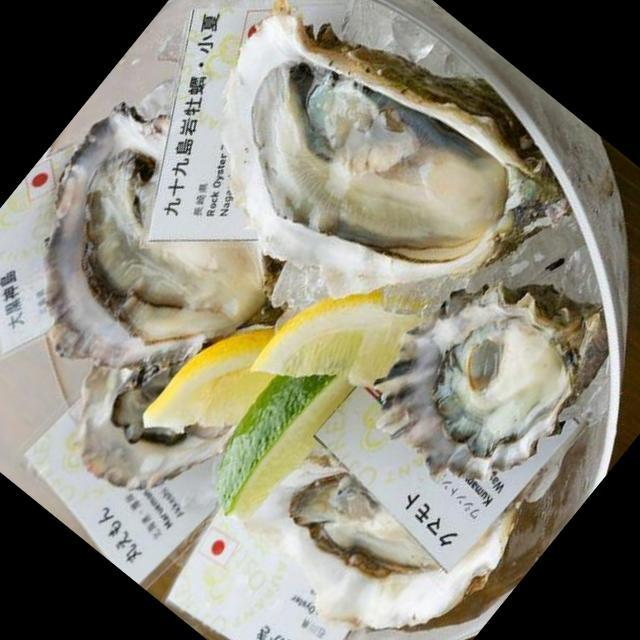Oyster-Open: (148, 0, 605, 385), (0, 105, 303, 445), (342, 220, 638, 526), (215, 379, 530, 640), (35, 283, 278, 531)
